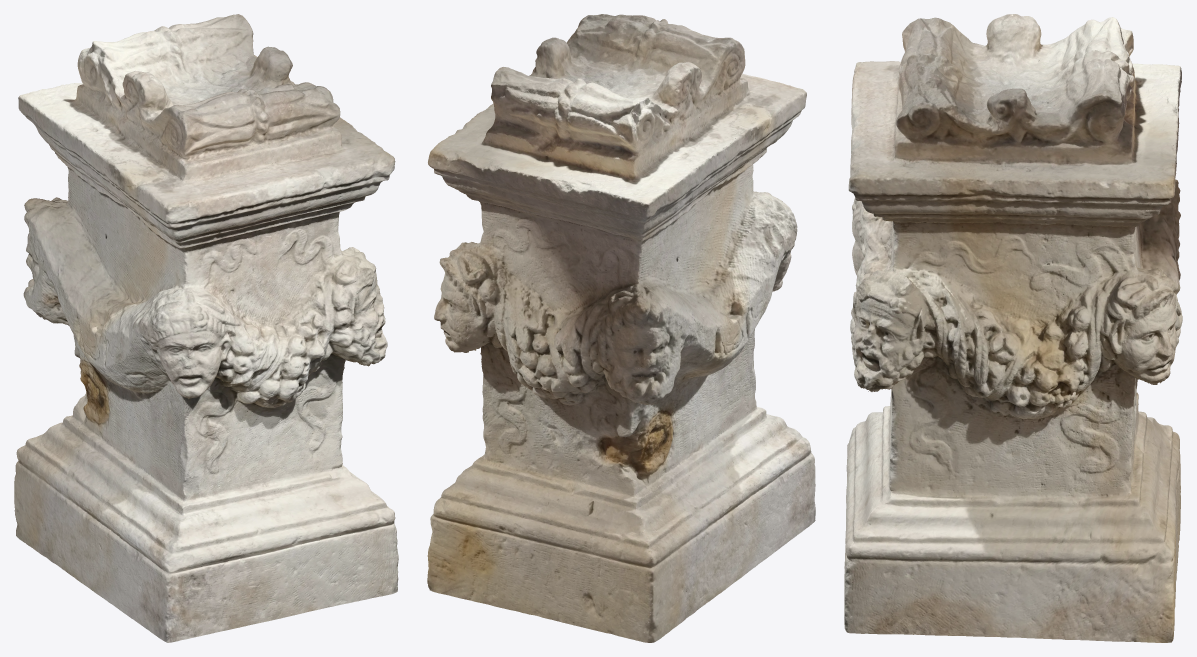
File: autel.glb
3 renders of one model, left to right at view 1: azimuth 30°, elevation 25°; view 2: azimuth 150°, elevation 25°; view 3: azimuth 270°, elevation 25°, orthographic. The views are drawn at different scales.
Size of the model in its own units: 1.16 by 2.41 by 1.38.
Materials: 2 (2 with a texture image).
